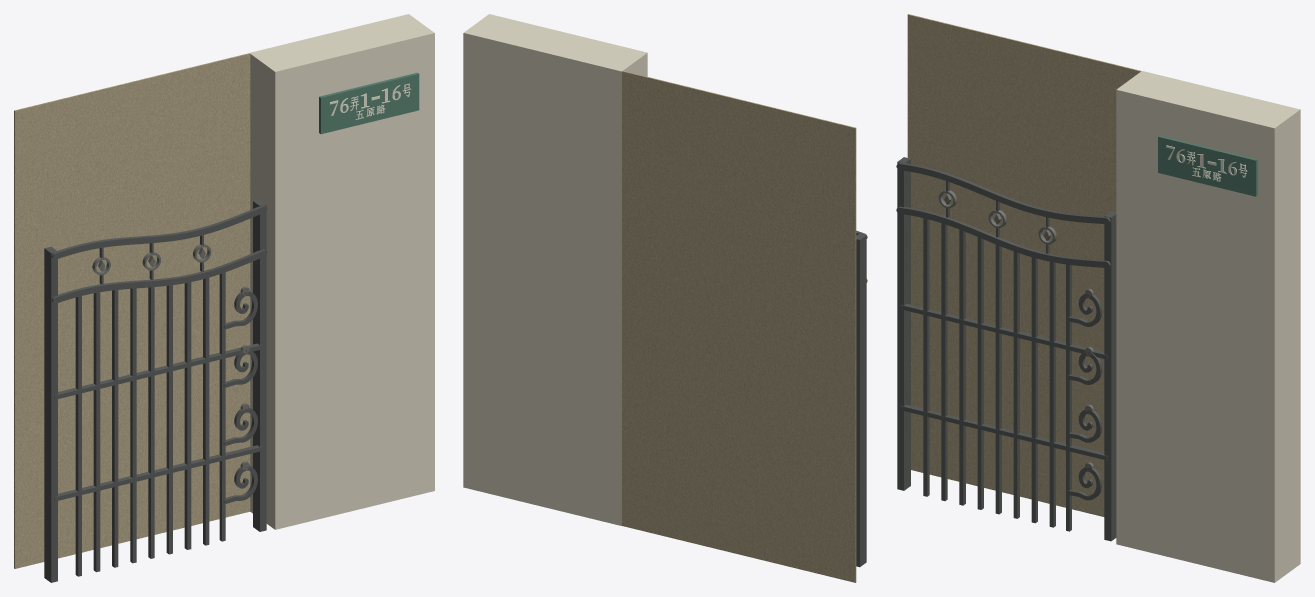
Rendered from hua-cun-lane76-waved-iron-gate-near.glb.
3 renders of one model, left to right at view 1: azimuth 30°, elevation 25°; view 2: azimuth 150°, elevation 25°; view 3: azimuth 330°, elevation 25°, orthographic.
Parts seen in each view (by area): view 1: 华邨五原路76弄起伏铁门与弄牌; view 2: 华邨五原路76弄起伏铁门与弄牌; view 3: 华邨五原路76弄起伏铁门与弄牌.
Part boxes in pixels (x1,y1,x2,y2): 华邨五原路76弄起伏铁门与弄牌: [14, 14, 434, 582]; 华邨五原路76弄起伏铁门与弄牌: [463, 14, 867, 582]; 华邨五原路76弄起伏铁门与弄牌: [896, 14, 1300, 582].
Bounding box in the file's own units: 2.04 × 2.27 × 0.253.
Materials: 6 (1 with a texture image).
